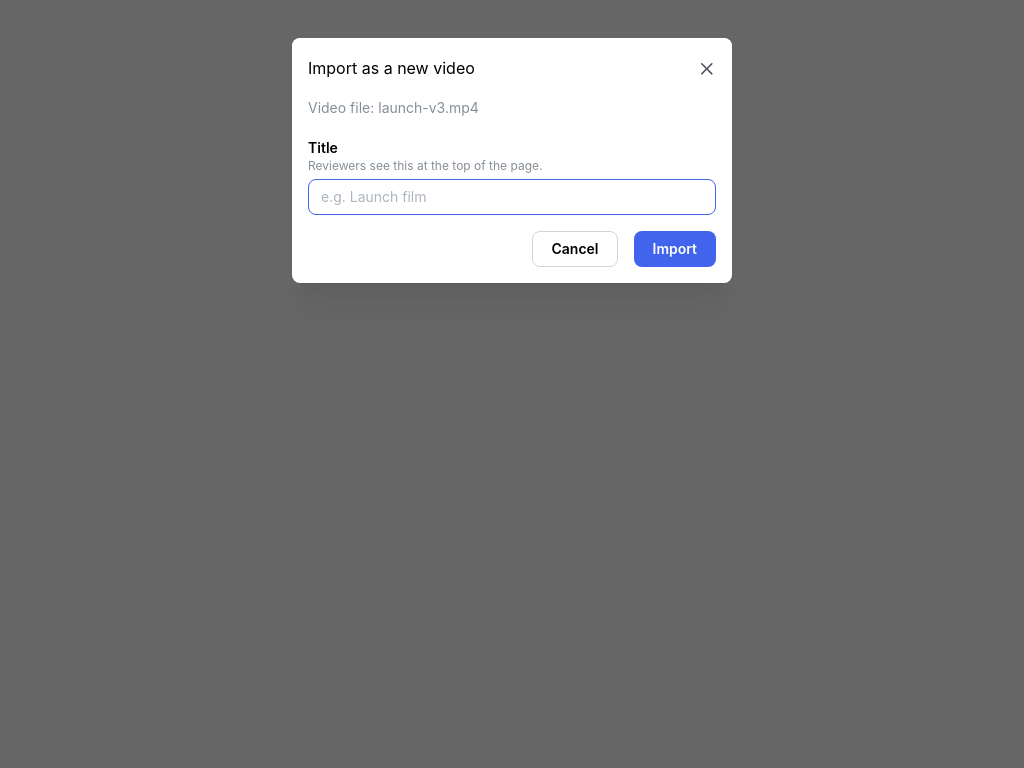
ImportModal › shows a plain message when the server cannot be reached
This screenshot has width=1024, height=768.
Step 1. Type "Launch" into the field with test id "admin-import-title" → x=512, y=197, box [308,179,716,215]
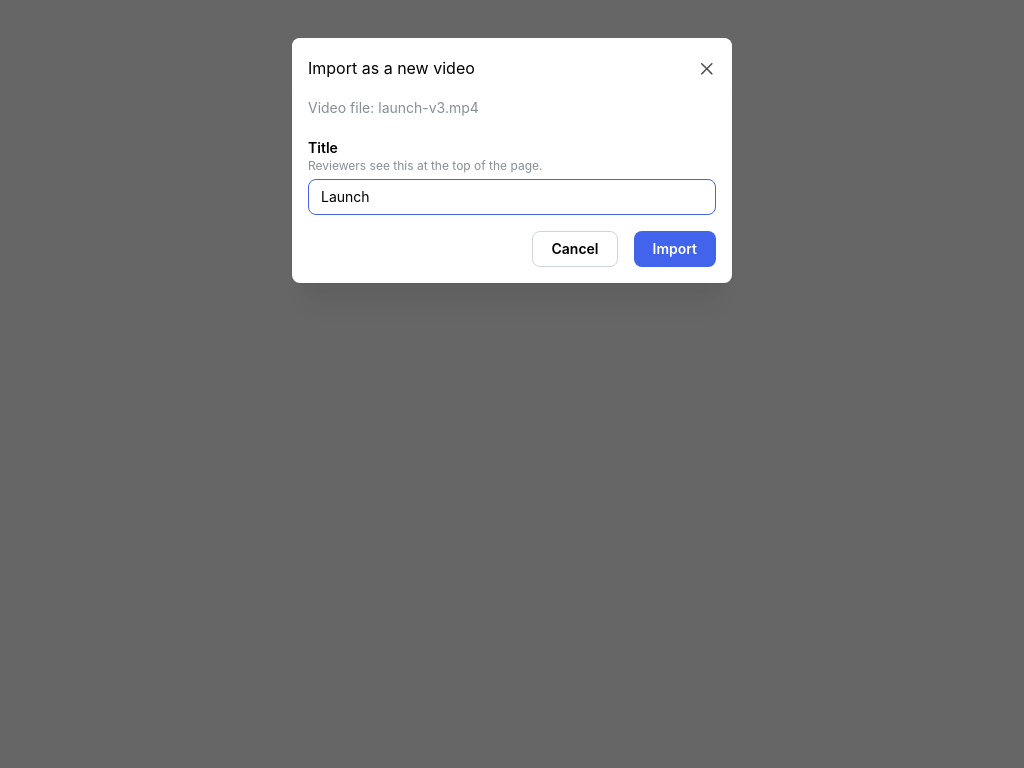
Step 2. Click the button with test id "admin-import-submit" → x=675, y=249, box [634,231,716,267]
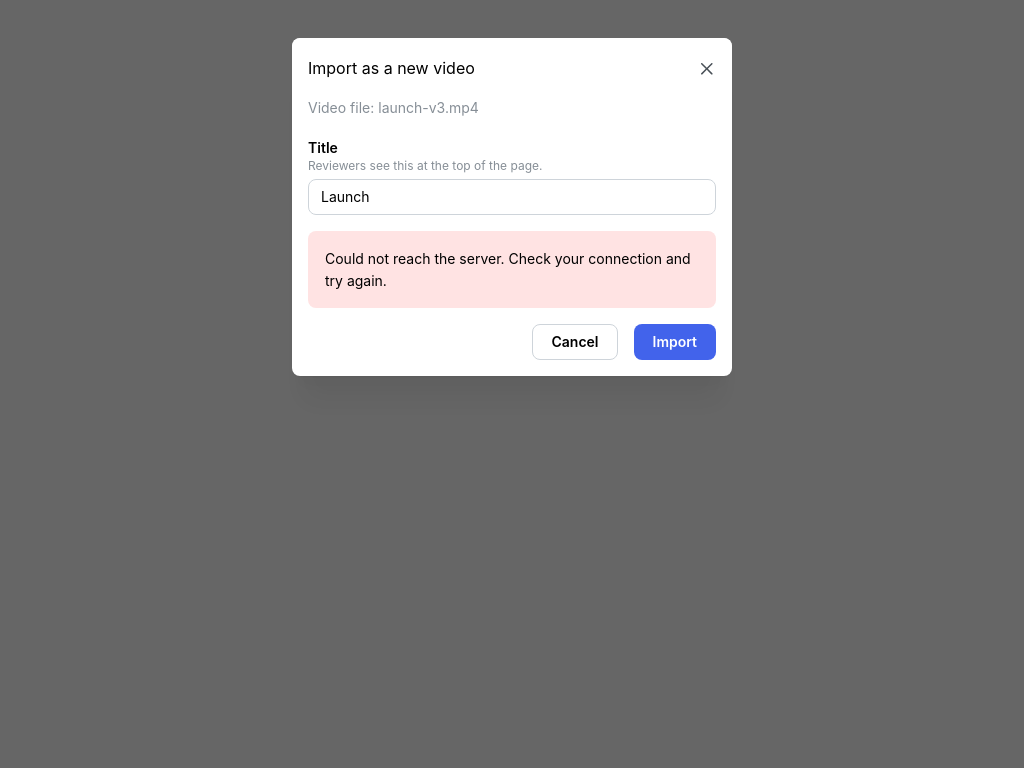
Check: the message with test id "admin-import-error" shows "Could not reach the server", box [325,250,691,289]
